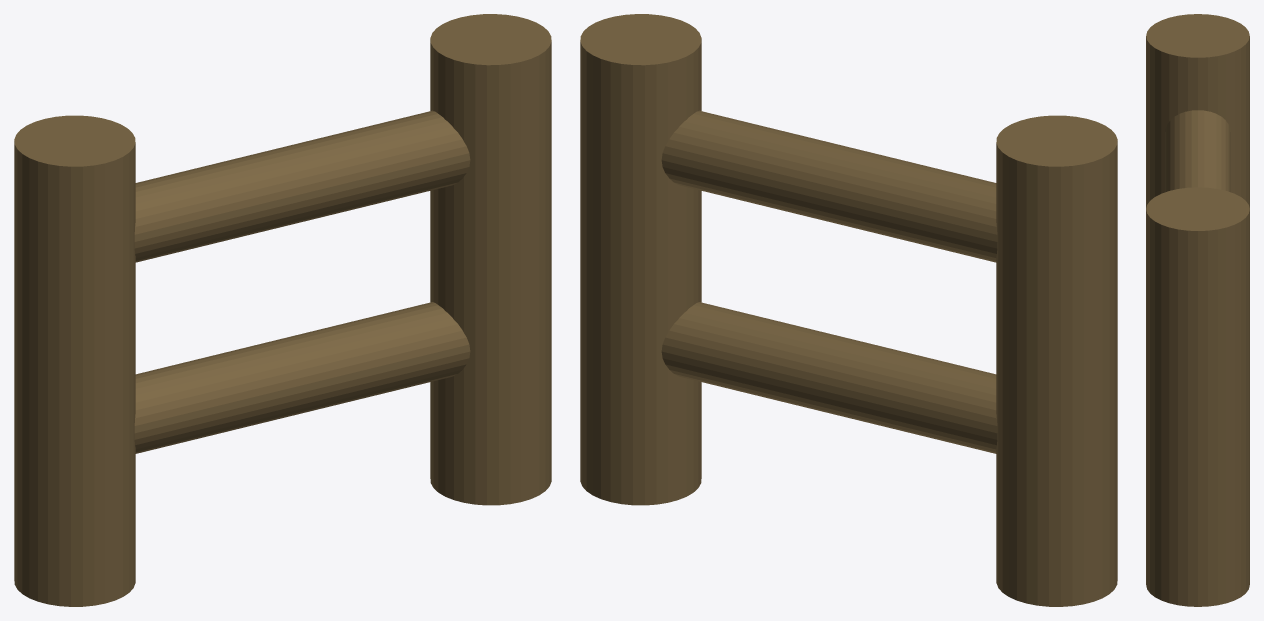
The model's file is fence_obstacle.fbx.
3 views of the same model, side by side, from view 1: azimuth 30°, elevation 25°; view 2: azimuth 150°, elevation 25°; view 3: azimuth 270°, elevation 25° (orthographic). The views are drawn at different scales.
Parts seen in each view (by area): view 1: Cylinder, Cylinder.001, Cylinder.002, Cylinder.003; view 2: Cylinder, Cylinder.001, Cylinder.002, Cylinder.003; view 3: Cylinder.001, Cylinder, Cylinder.002.
Part boxes in pixels (x1,y1,x2,y2): Cylinder: (14,115,135,606); Cylinder.001: (430,14,551,505); Cylinder.002: (134,110,470,262); Cylinder.003: (134,302,470,453); Cylinder: (996,115,1117,606); Cylinder.001: (580,14,701,505); Cylinder.002: (661,110,997,262); Cylinder.003: (661,302,997,453); Cylinder.001: (1146,187,1249,606); Cylinder: (1146,14,1249,208); Cylinder.002: (1165,110,1230,192).
Bounding box in the file's own units: 198 × 160 × 40.
